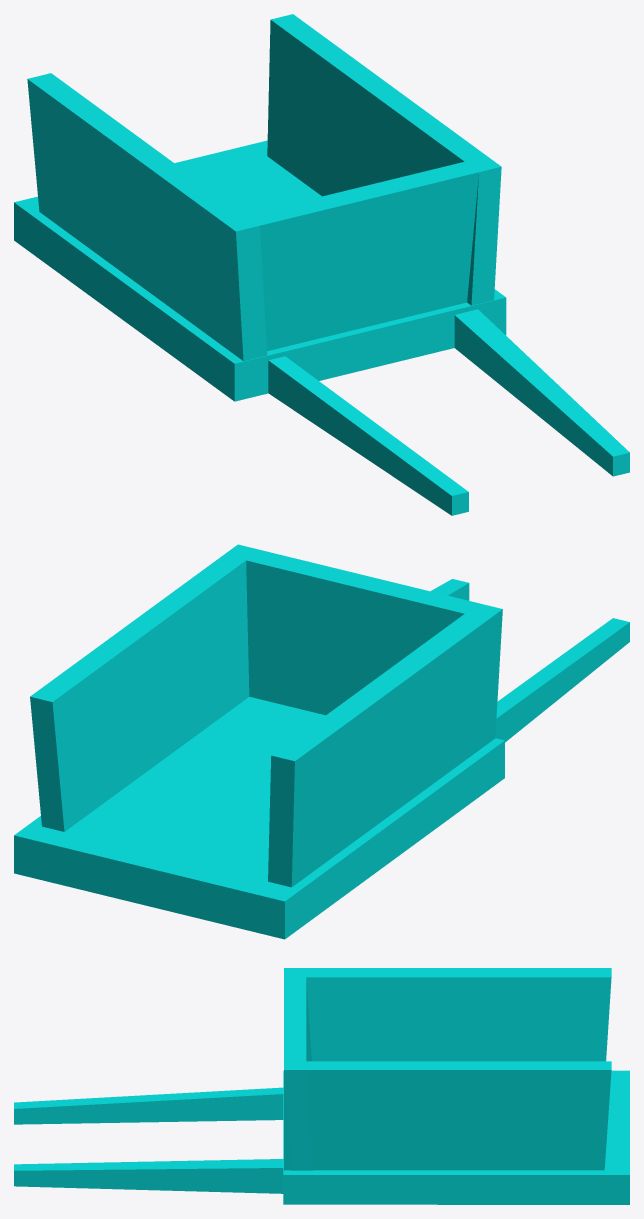
File: SM_Veh_Cart_02_Collision.fbx
3 views of the same model, one above another, from view 1: azimuth 30°, elevation 25°; view 2: azimuth 150°, elevation 25°; view 3: azimuth 270°, elevation 25° (orthographic). The views are drawn at different scales.
Visible parts, largest first — view 1: SM_Veh_Cart_02_Collision; view 2: SM_Veh_Cart_02_Collision; view 3: SM_Veh_Cart_02_Collision.
Part boxes in pixels (x1=…): SM_Veh_Cart_02_Collision: x1=14, y1=14, x2=629, y2=515; SM_Veh_Cart_02_Collision: x1=14, y1=544, x2=629, y2=939; SM_Veh_Cart_02_Collision: x1=14, y1=968, x2=629, y2=1204.
Size of the model in its own units: 127 by 76.08 by 318.
